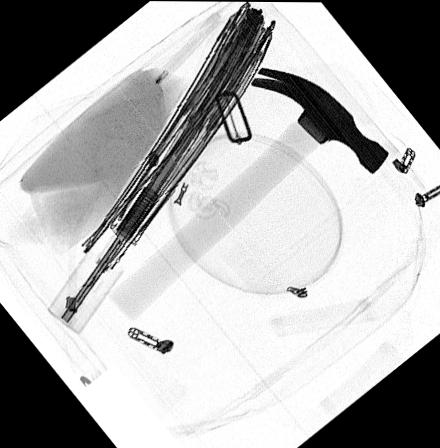Hammer: (106, 64, 389, 318)
